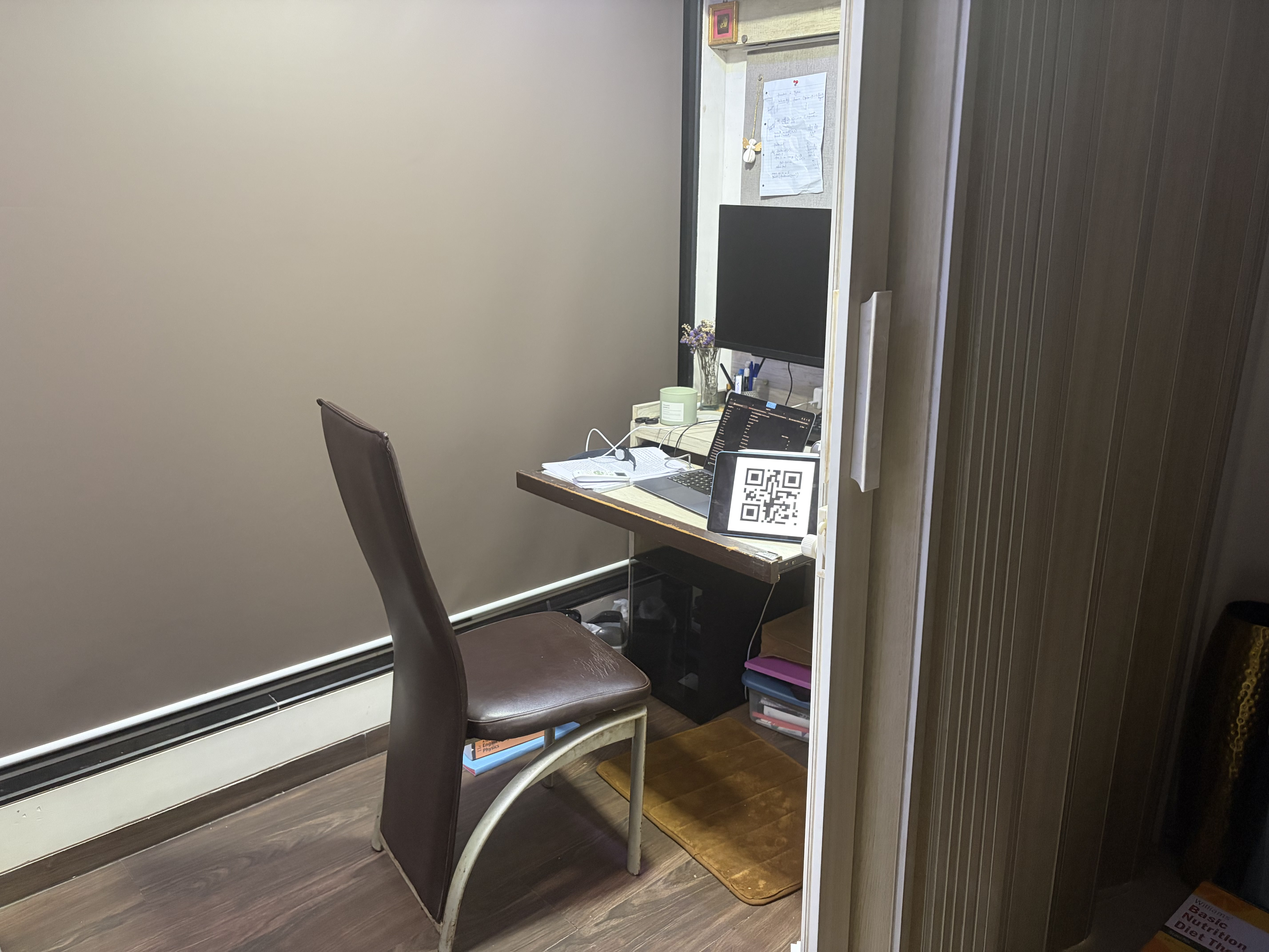QR: (740, 460, 805, 535)
